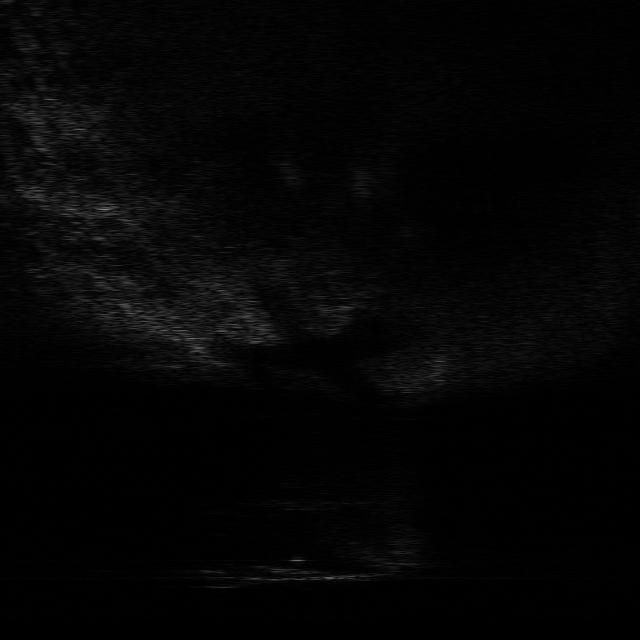plane: (188, 535, 428, 588)
